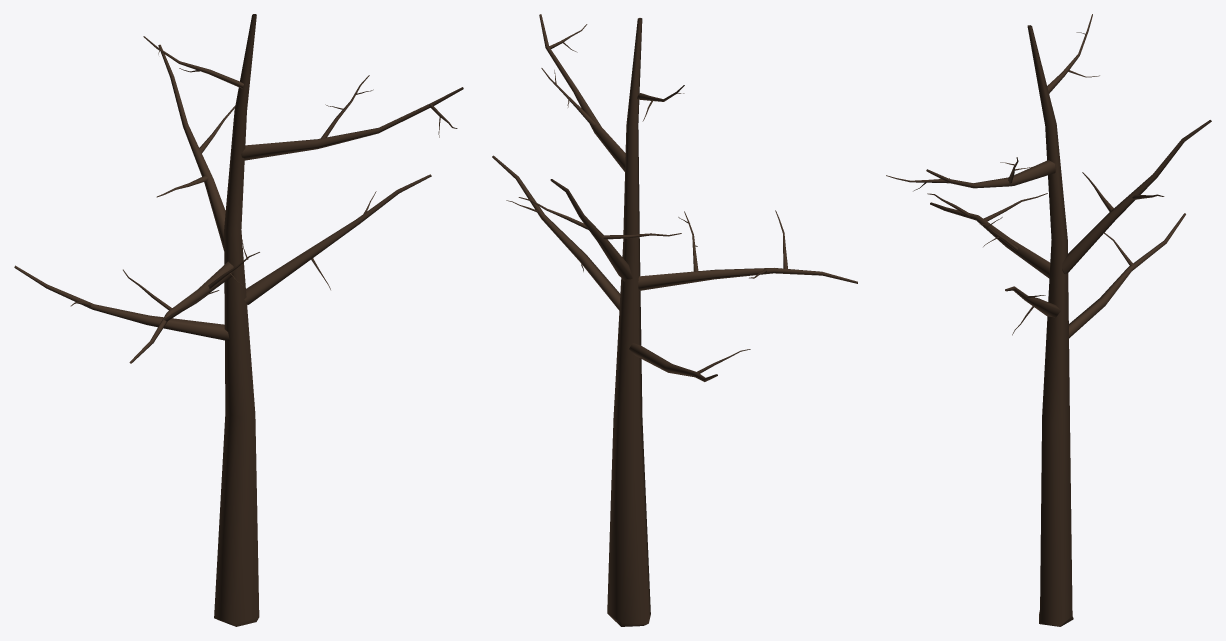
File: Tree_bigger.fbx
3 views of the same model, side by side, from view 1: azimuth 30°, elevation 25°; view 2: azimuth 150°, elevation 25°; view 3: azimuth 270°, elevation 25° (orthographic). The views are drawn at different scales.
Parts seen in each view (by area): view 1: Tree_base1; view 2: Tree_base1; view 3: Tree_base1.
Part boxes in pixels (bbox=[...]): Tree_base1: bbox=[14, 14, 463, 626]; Tree_base1: bbox=[492, 14, 857, 626]; Tree_base1: bbox=[886, 14, 1211, 626].
Size of the model in its own units: 25 by 42.96 by 21.34.
